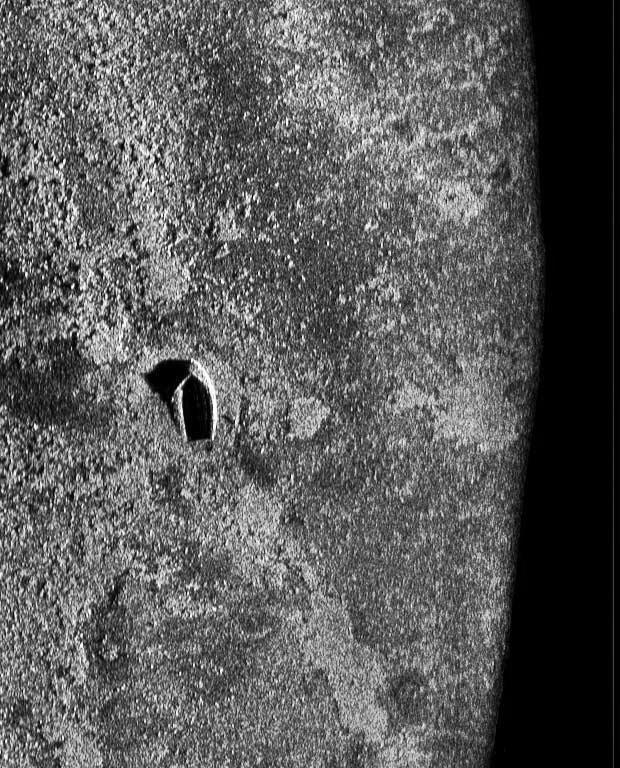ship: (167, 355, 219, 447)
